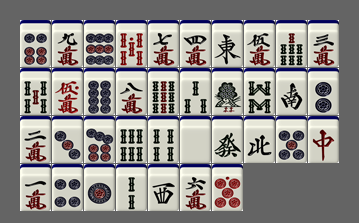0m: (52, 68, 83, 115)
0p: (212, 164, 243, 211)
0s: (116, 20, 147, 67)
1m: (20, 164, 51, 211)
1p: (84, 164, 115, 211)
1s: (212, 68, 243, 115)
1z: (212, 20, 243, 67)
2m: (20, 116, 51, 163)
2p: (308, 68, 339, 115)
2s: (116, 164, 147, 211)
2z: (276, 68, 307, 115)
3m: (308, 20, 339, 67)
3p: (52, 116, 83, 163)
3s: (180, 68, 211, 115)
3z: (148, 164, 179, 211)
4m: (180, 20, 211, 67)
4p: (52, 164, 83, 211)
4s: (148, 116, 179, 163)
4z: (244, 116, 275, 163)
5m: (244, 20, 275, 67)
5p: (276, 116, 307, 163)
5s: (20, 68, 51, 115)
5z: (180, 116, 211, 163)
6m: (180, 164, 211, 211)
6p: (20, 20, 51, 67)
6s: (116, 116, 147, 163)
6z: (212, 116, 243, 163)
7m: (148, 20, 179, 67)
7p: (84, 116, 115, 163)
7s: (276, 20, 307, 67)
7z: (308, 116, 339, 163)
8m: (116, 68, 147, 115)
8p: (84, 68, 115, 115)
8s: (244, 68, 275, 115)
9m: (52, 20, 83, 67)
9p: (84, 20, 115, 67)
9s: (148, 68, 179, 115)
